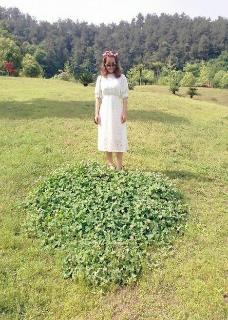short sleeve dress: (95, 72, 129, 152)
